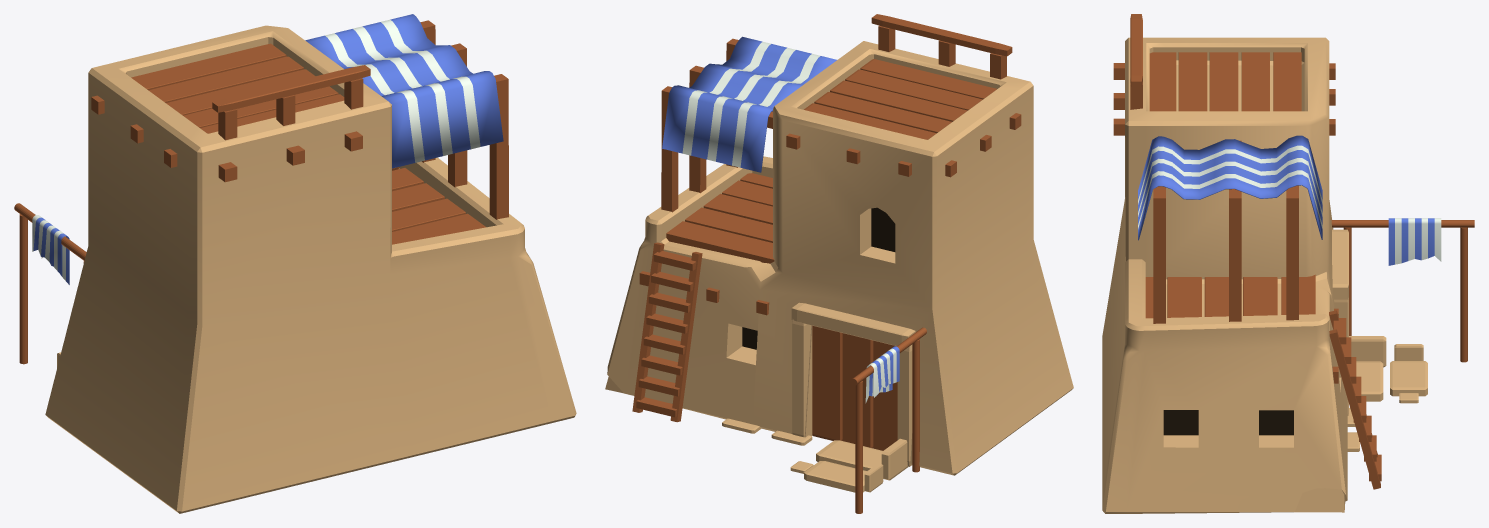
The model's file is DesertHouse_Blue.fbx.
3 renders of one model, left to right at view 1: azimuth 30°, elevation 25°; view 2: azimuth 150°, elevation 25°; view 3: azimuth 270°, elevation 25°, orthographic. The views are drawn at different scales.
Parts seen in each view (by area): view 1: Cube, Plane, Cube.001, Cube.035, Cube.030, Cube.031, Cylinder.003, Cylinder.001, Cube.013; view 2: Cube, Plane, Cube.001, Cube.014, Cube.035, Cube.032, Cube.018, Cube.019, Cube.031, Cube.034, Cube.020, Cube.012 (+8 smaller); view 3: Cube, Plane, Cube.001, Cube.035, Cylinder.003, Cube.030, Cube.012, Cube.013, Cube.033, Cube.032, Cube.022, Cube.018 (+6 smaller).
Part boxes in pixels (x1,y1,x2,y2): Cube: [45, 25, 576, 513]; Plane: [305, 14, 503, 168]; Cube.001: [131, 43, 344, 133]; Cube.035: [392, 168, 485, 244]; Cube.030: [489, 74, 508, 219]; Cube.031: [212, 65, 370, 112]; Cylinder.003: [32, 215, 69, 284]; Cylinder.001: [19, 214, 27, 364]; Cube.013: [448, 43, 467, 187]; Cube: [605, 41, 1073, 475]; Plane: [662, 36, 836, 172]; Cube.001: [804, 59, 996, 139]; Cube.014: [812, 325, 897, 450]; Cube.035: [666, 173, 774, 263]; Cube.032: [636, 251, 696, 417]; Cube.018: [791, 302, 915, 346]; Cube.019: [792, 319, 811, 437]; Cube.031: [871, 14, 1012, 56]; Cube.034: [670, 252, 702, 422]; Cube.020: [897, 344, 912, 466]; Cube.012: [661, 86, 772, 212]; Cube: [1102, 37, 1347, 513]; Plane: [1138, 135, 1322, 240]; Cube.001: [1149, 52, 1301, 111]; Cube.035: [1145, 274, 1315, 318]; Cylinder.003: [1388, 218, 1441, 265]; Cube.030: [1153, 186, 1165, 323]; Cube.012: [1286, 185, 1298, 320]; Cube.013: [1229, 140, 1241, 321]; Cube.033: [1329, 329, 1380, 489]; Cube.032: [1333, 318, 1381, 481]; Cube.022: [1390, 361, 1427, 396]; Cube.018: [1332, 229, 1348, 299].
Size of the model in its own units: 442 by 410 by 393.
